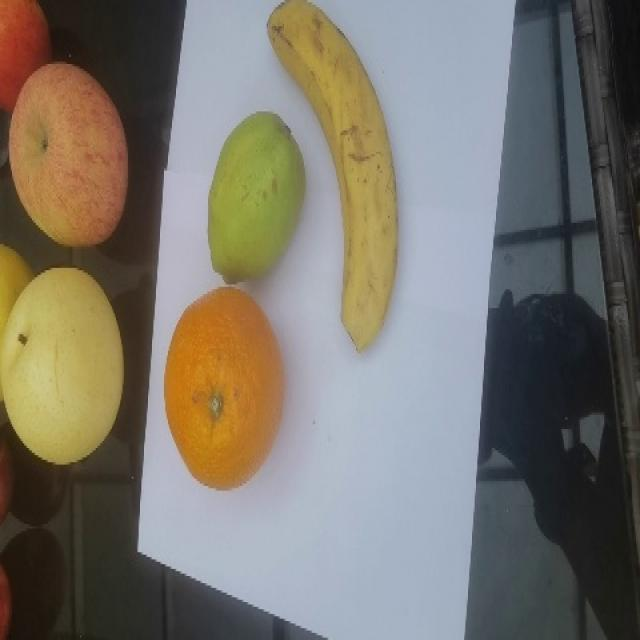Apple: (7, 60, 129, 247), (0, 0, 52, 113)
Banana: (265, 0, 398, 352)
Orange: (163, 286, 284, 490)
